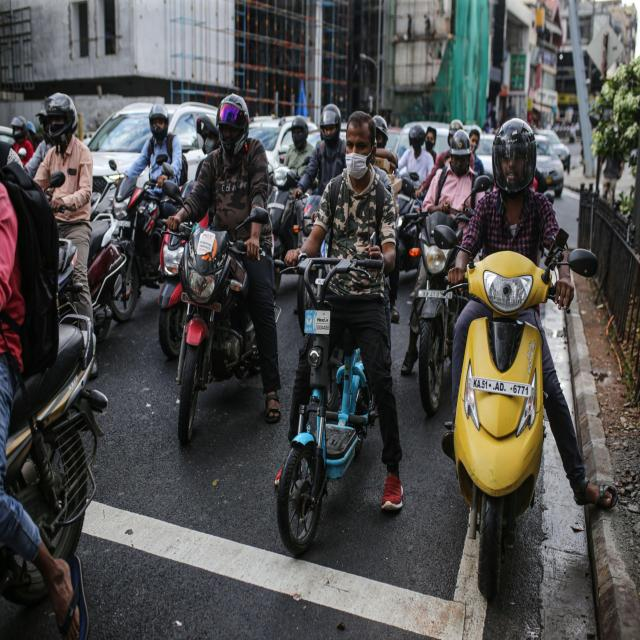motorcycle: (442, 118, 618, 598), (278, 111, 402, 556), (168, 94, 281, 442), (401, 129, 491, 416), (111, 105, 188, 322)
